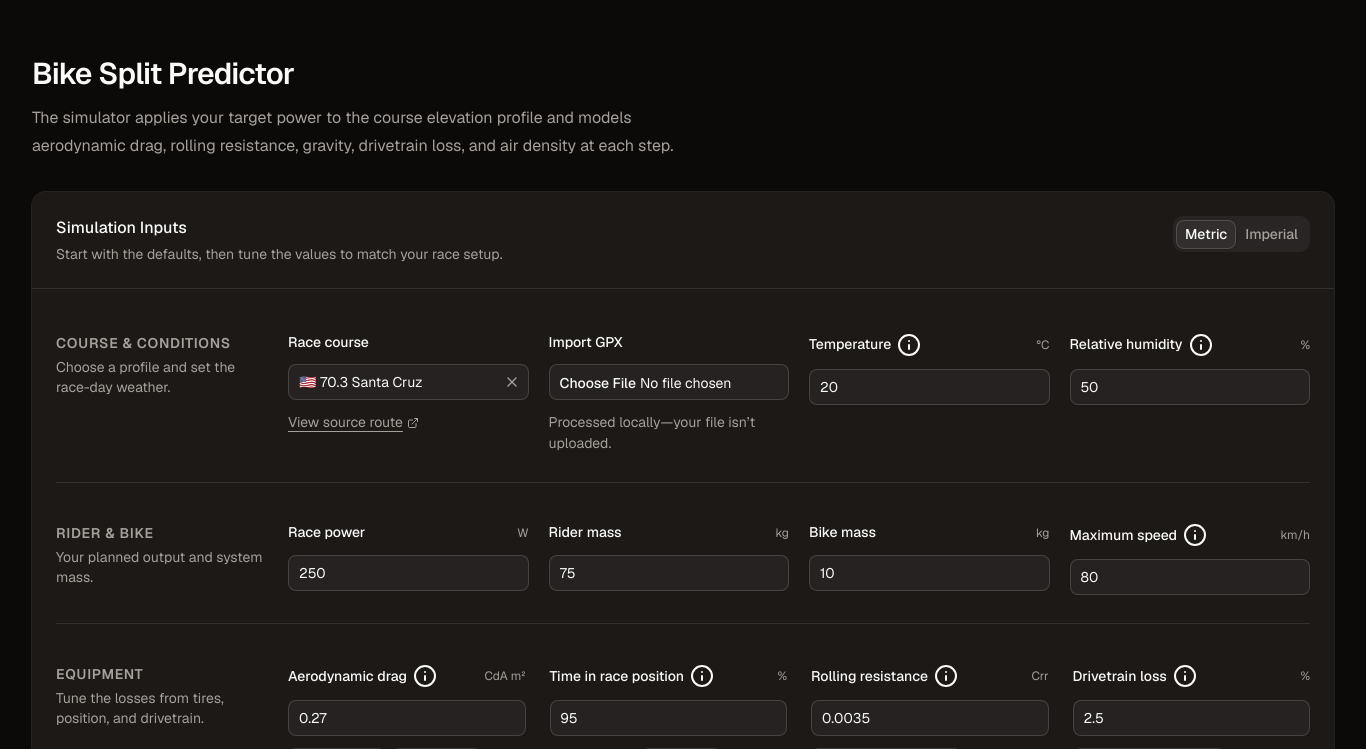
it: BikeSimulator custom courses › searches and selects a preset course
Replace the text in the dropdown labelled "Race course" with "Chattanooga": (394, 382) [289,364,500,400]
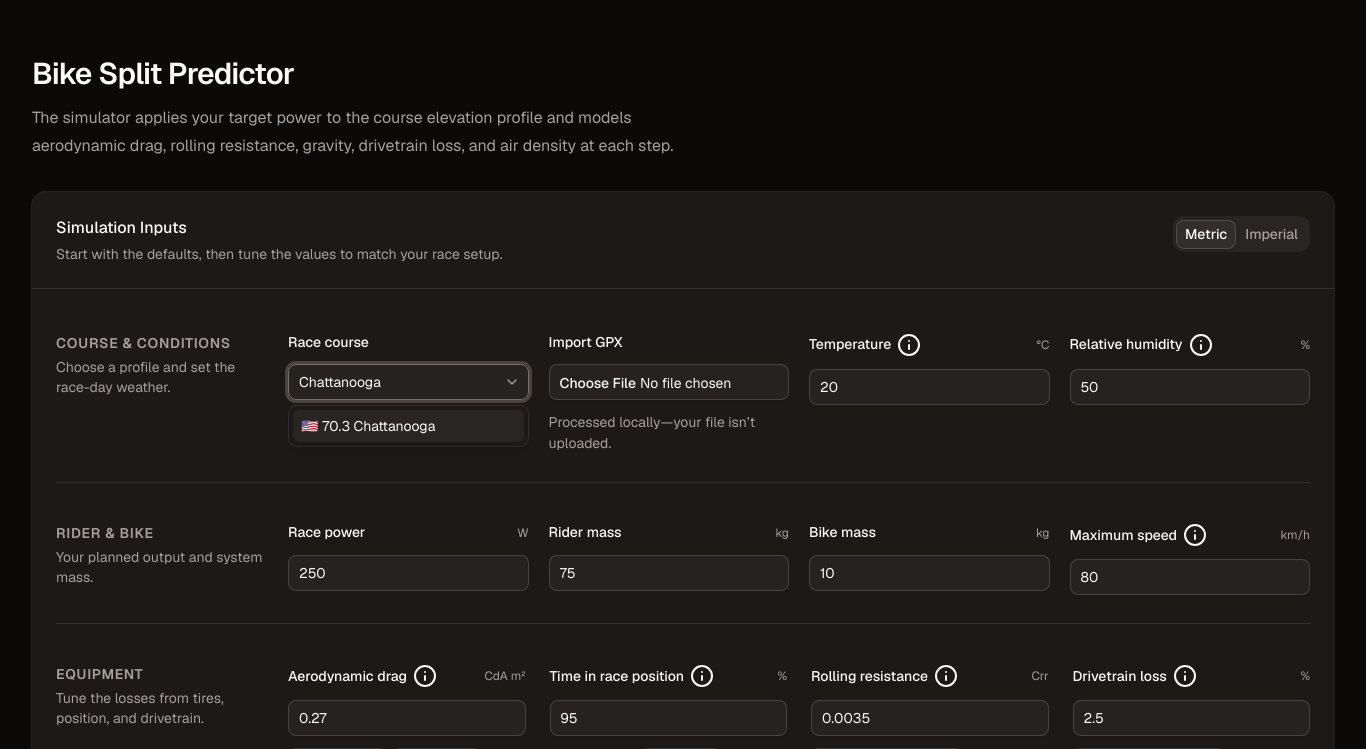
Expected: the option "Santa Cruz" is not shown
Click the option "🇺🇸 70.3 Chattanooga": (408, 426) [293,410,524,442]
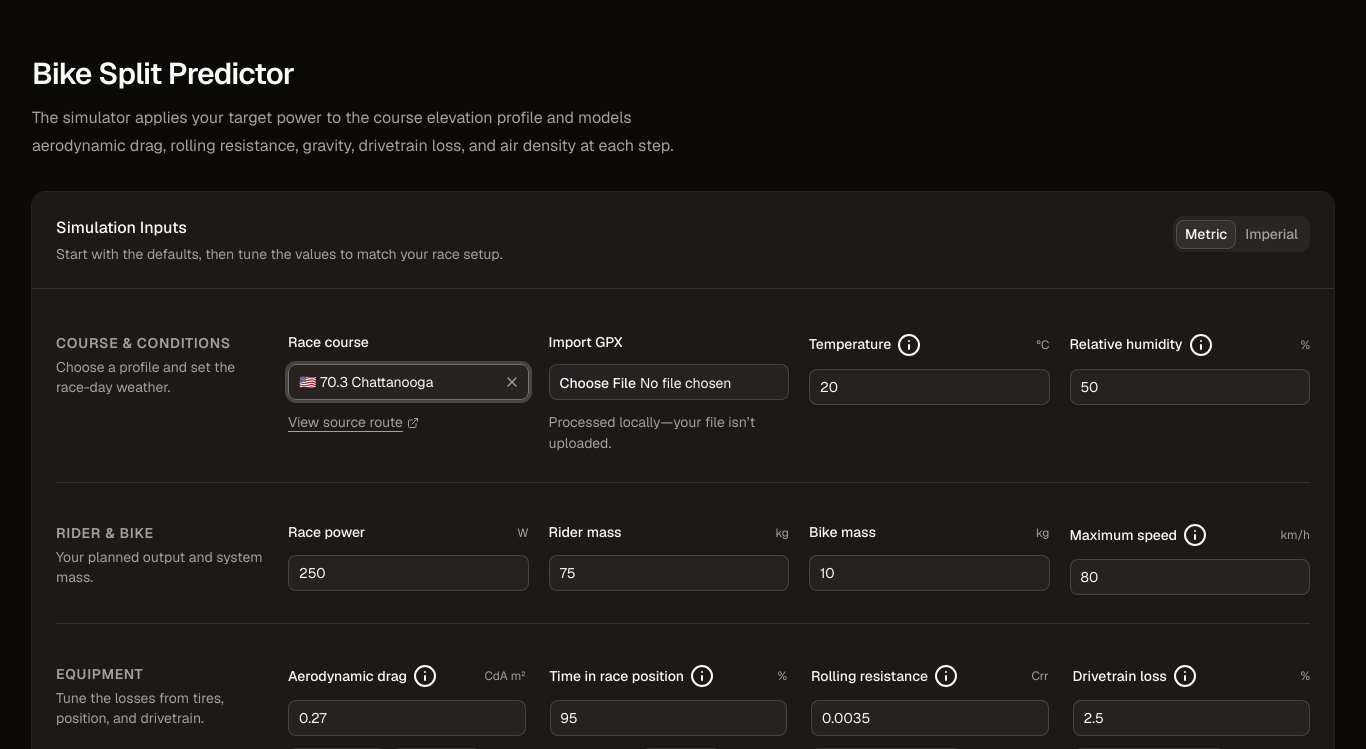
Now the dropdown labelled "Race course" holds "🇺🇸 70.3 Chattanooga", box [289,364,500,400]
